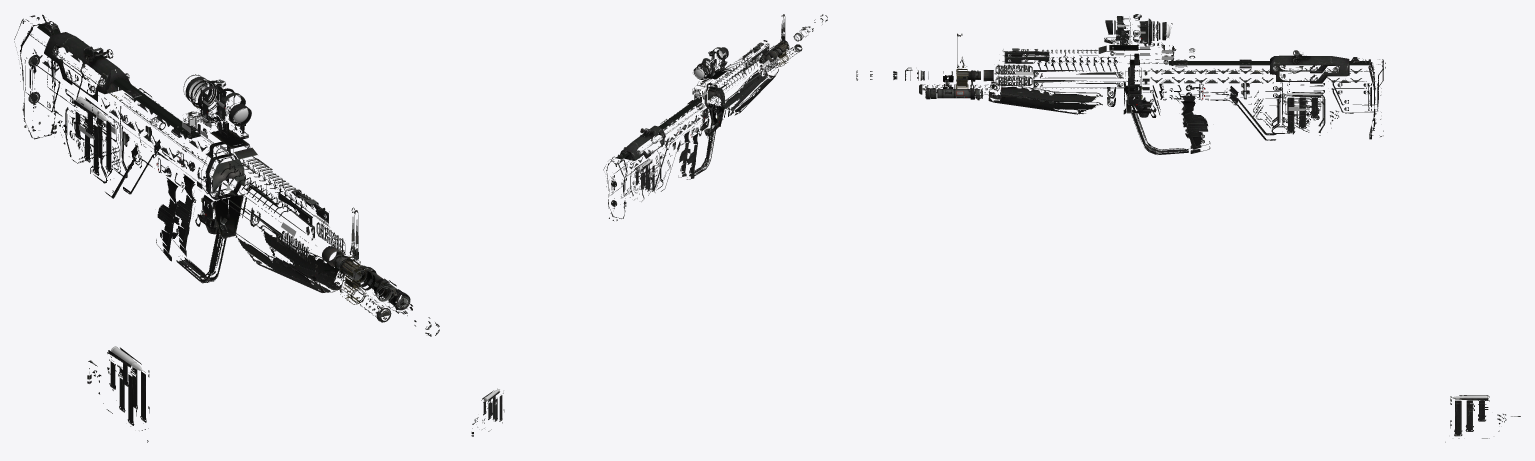
File: M392_1stP_Rigged.fbx
The picture shows the model from 3 angles, left to right: view 1: azimuth 30°, elevation 25°; view 2: azimuth 150°, elevation 25°; view 3: azimuth 270°, elevation 25°; orthographic projection. The views are drawn at different scales.
Parts seen in each view (by area): view 1: MainBody, Magazine2, Magazine1; view 2: MainBody, Magazine2, Magazine1; view 3: MainBody, Magazine2, Magazine1.
Boxes of the visible parts, x1,y1,x2,y2 form: MainBody: (14,14,439,336); Magazine2: (87,347,149,442); Magazine1: (52,97,114,192); MainBody: (603,14,827,220); Magazine2: (471,388,504,436); Magazine1: (624,158,656,206); MainBody: (856,14,1385,154); Magazine2: (1445,395,1520,442); Magazine1: (1283,91,1353,135).
Size of the model in its own units: 25.56 by 71.02 by 113.
